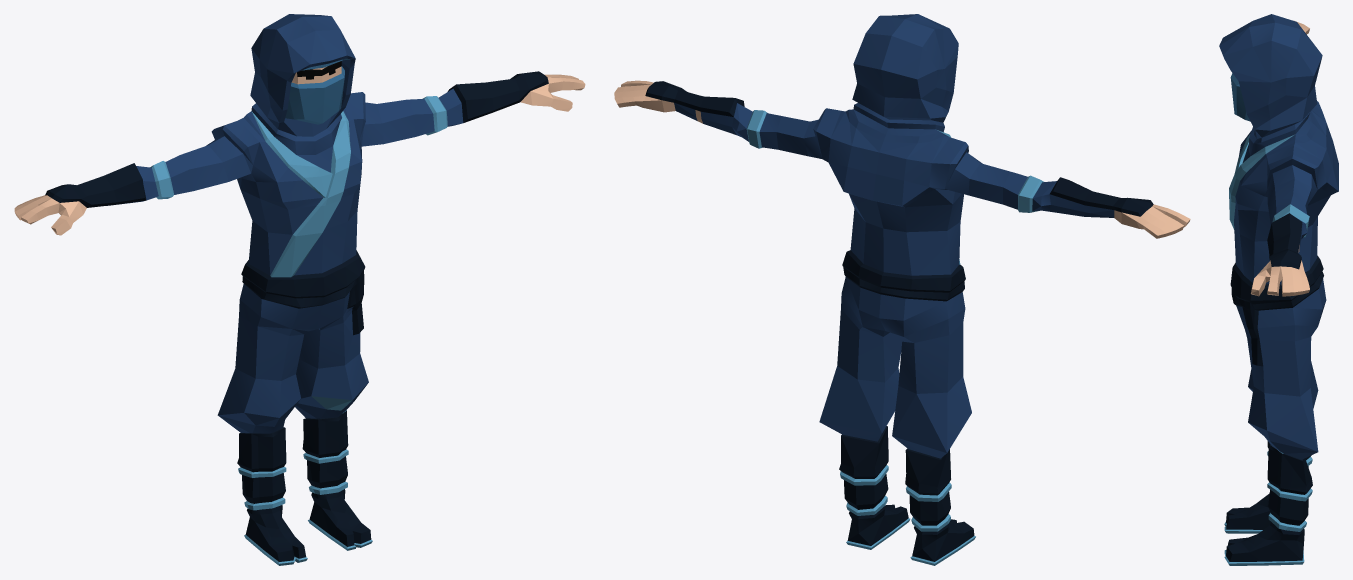
Rendered from 1_test_color_ninja.fbx.
3 renders of one model, left to right at view 1: azimuth 30°, elevation 25°; view 2: azimuth 150°, elevation 25°; view 3: azimuth 270°, elevation 25°, orthographic.
Visible parts, largest first — view 1: Character_Ninja.001; view 2: Character_Ninja.001; view 3: Character_Ninja.001.
Part boxes in pixels (x1,y1,x2,y2): Character_Ninja.001: (14, 14, 585, 565); Character_Ninja.001: (614, 14, 1190, 565); Character_Ninja.001: (1219, 14, 1338, 565).
Bounding box in the file's own units: 2.05 × 1.82 × 0.3786.
Materials: 1 (1 with a texture image).
